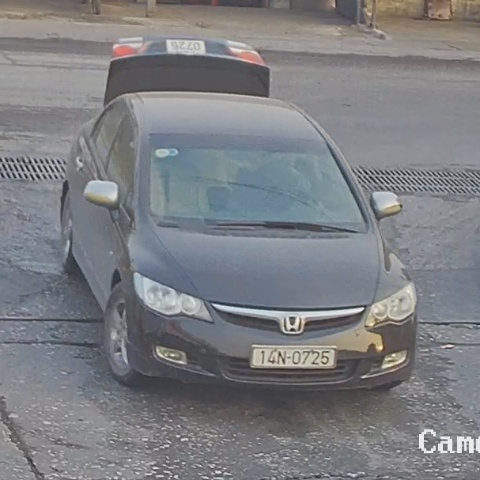vehicle plate: (248, 339, 341, 375)
